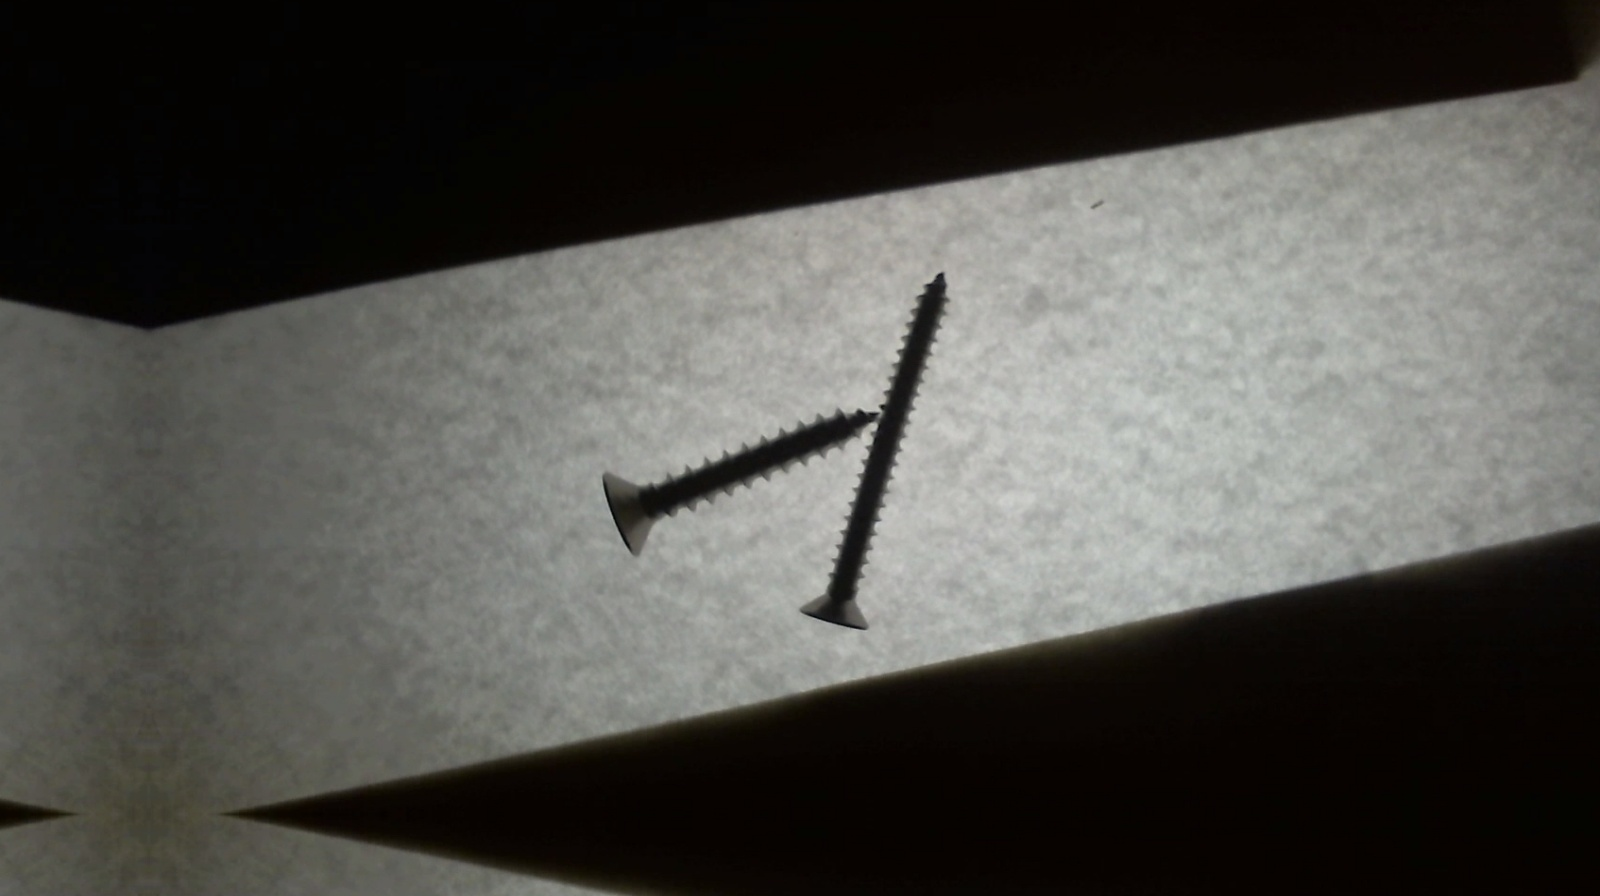S001: (592, 405, 888, 558)
S002: (790, 261, 962, 642)
